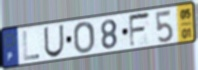5: (155, 8, 176, 44)
8: (100, 19, 119, 50)
F: (128, 10, 152, 49)
L: (22, 30, 41, 62)
O: (73, 20, 96, 55)
U: (43, 24, 65, 59)
